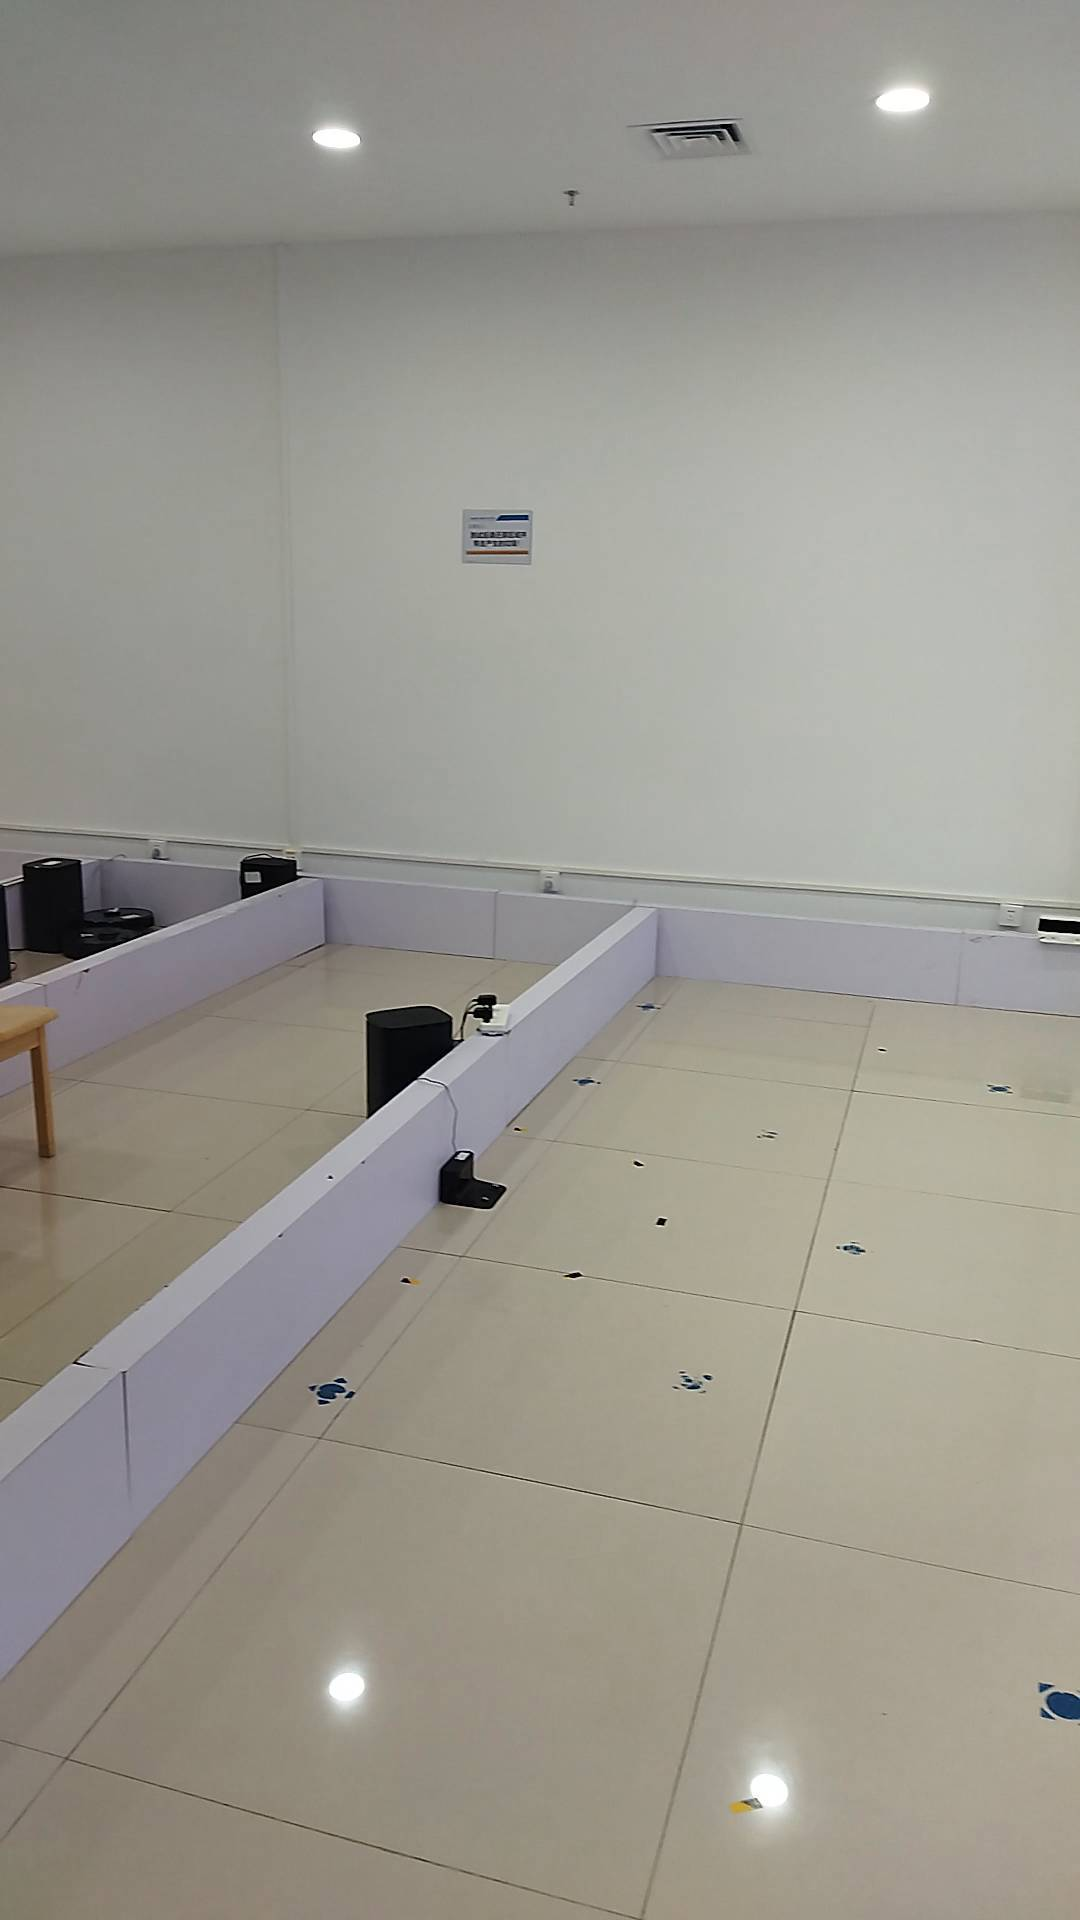dust collecting barrel: (367, 1006, 450, 1116), (18, 856, 86, 959)
recharge seat: (439, 1153, 514, 1207), (1033, 911, 1080, 949)
